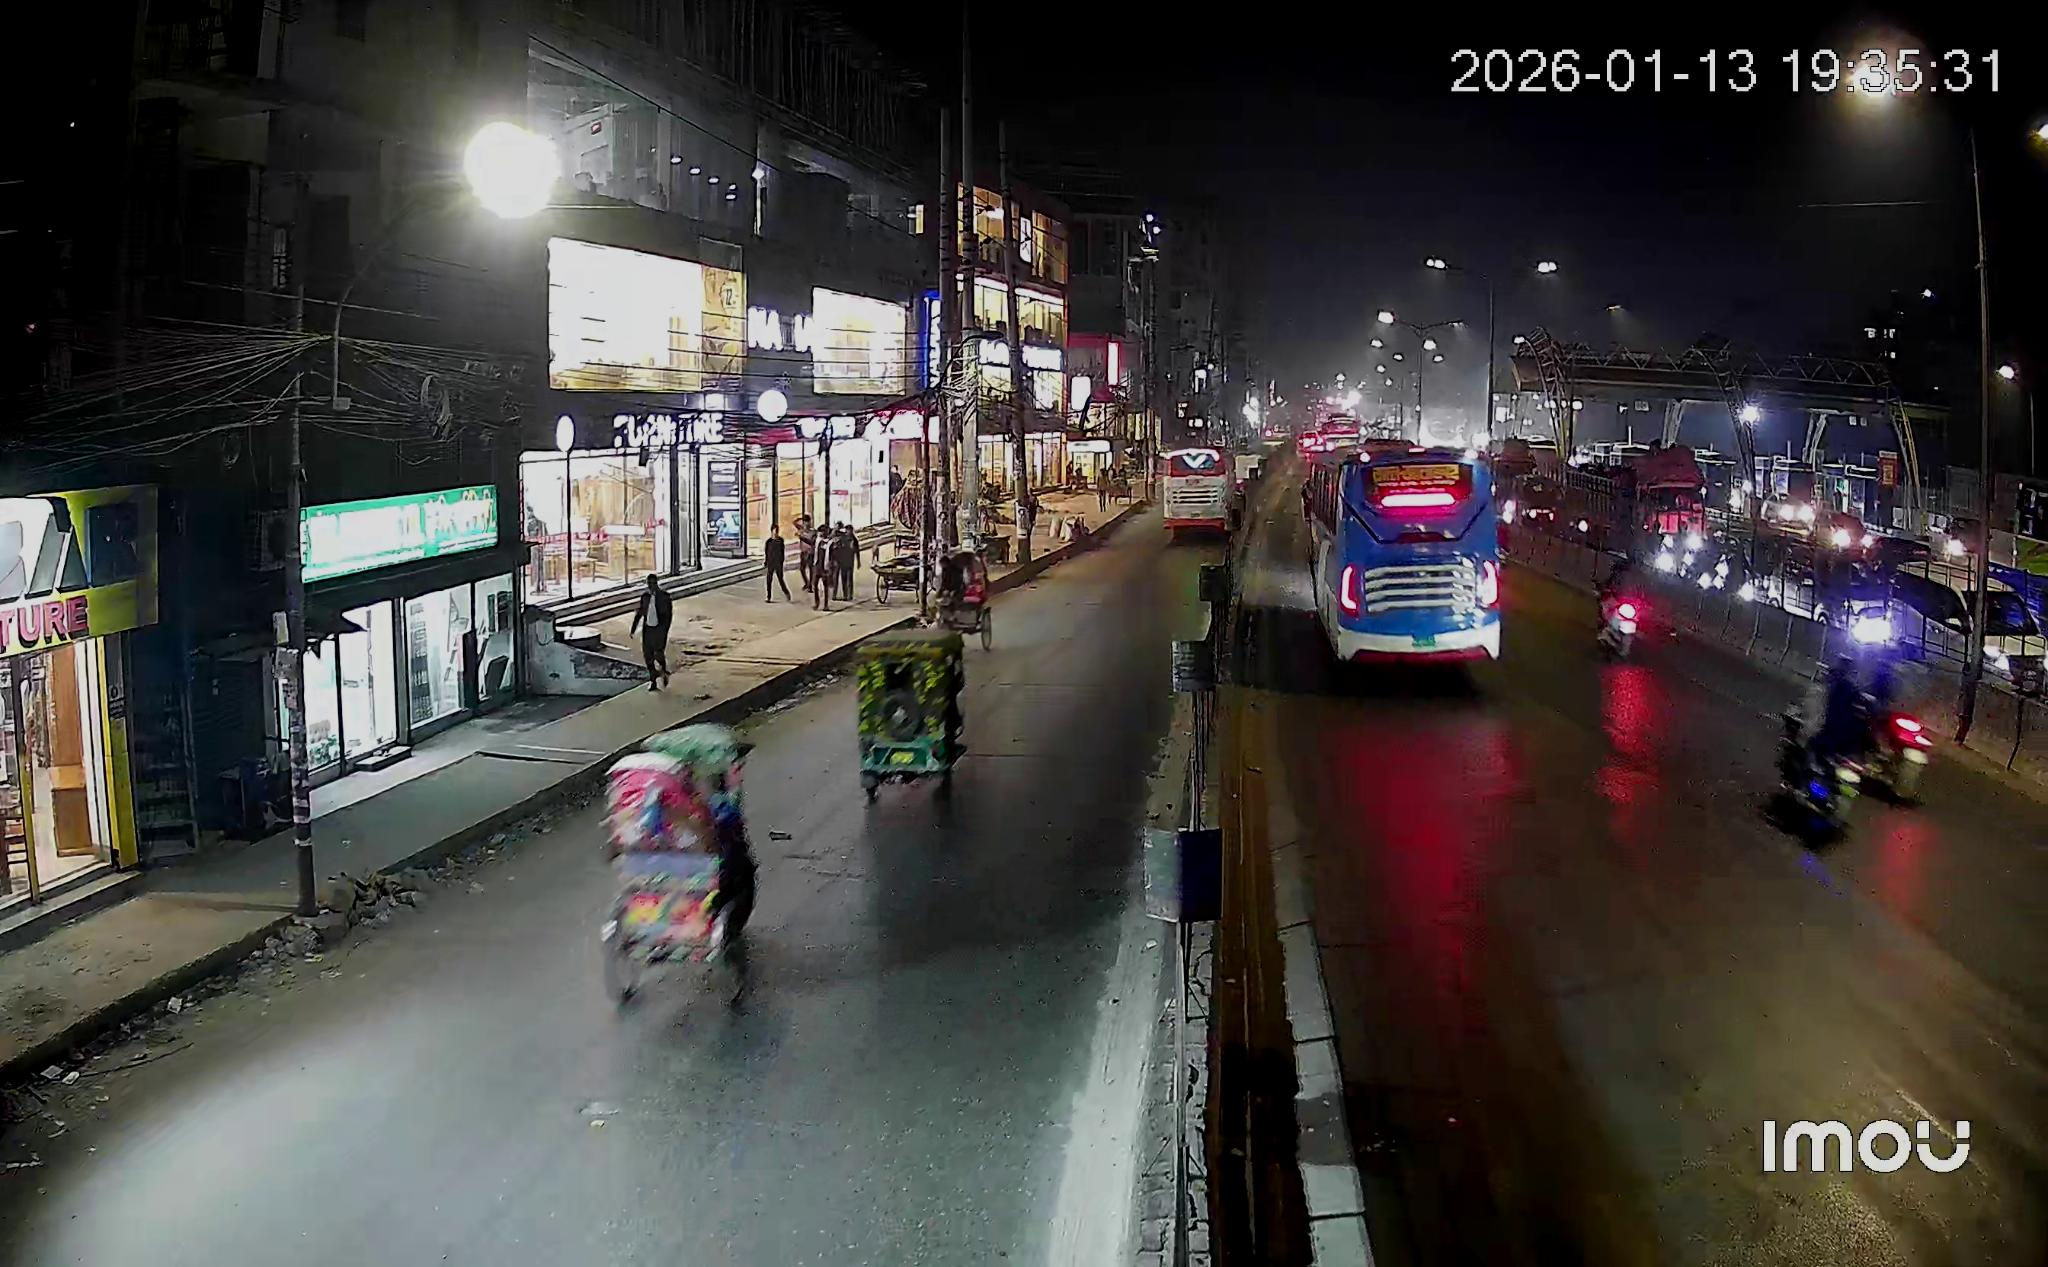Auto Rickshaw: (856, 628, 965, 802)
Bus: (1305, 449, 1501, 661), (1163, 448, 1243, 531)
Cycle Rickshaw: (600, 724, 756, 1002), (938, 547, 992, 650)
Motorcycle: (1779, 653, 1875, 837), (1597, 557, 1646, 658)
